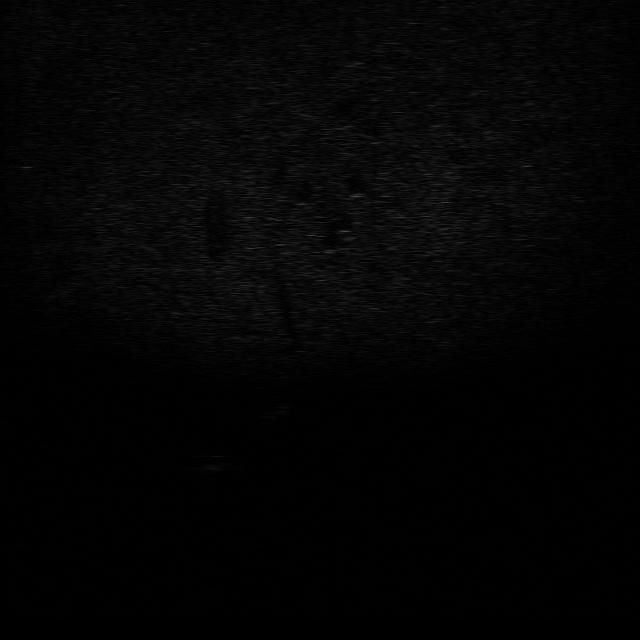human body: (255, 386, 299, 429)
